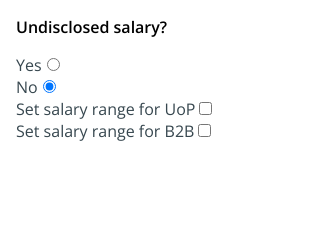
Test case: FormOffersalary component › renders uopSalaryInput after setUop is clicked
The width and height of the screenshot is (320, 242).
Click the checkbox named "setUop" next to "Set salary range for UoP" at (206, 108), box [200,102,212,115]
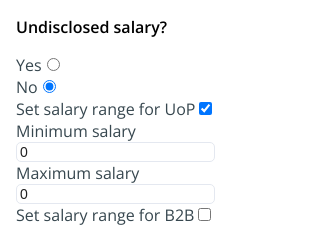
Expected: the text "Undisclosed salary?" is shown, [16,16,167,38]
Now the 1st number field named "uopSalaryMin" is shown, box [16,142,216,162]
